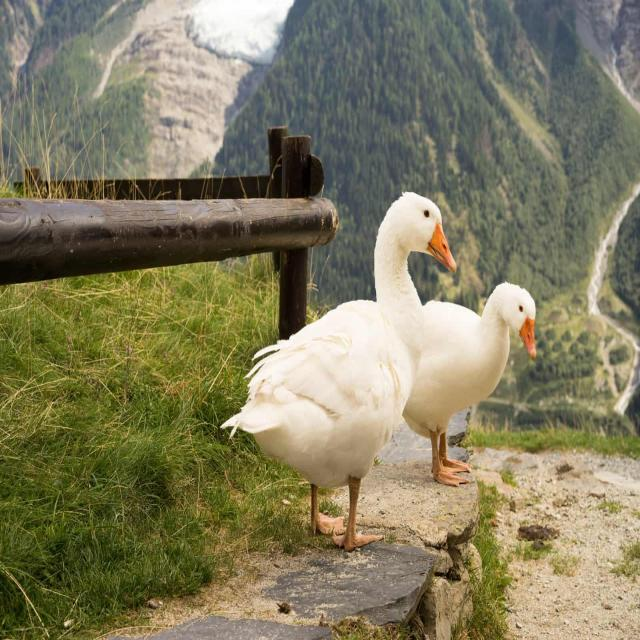Goose: (233, 186, 460, 549)
